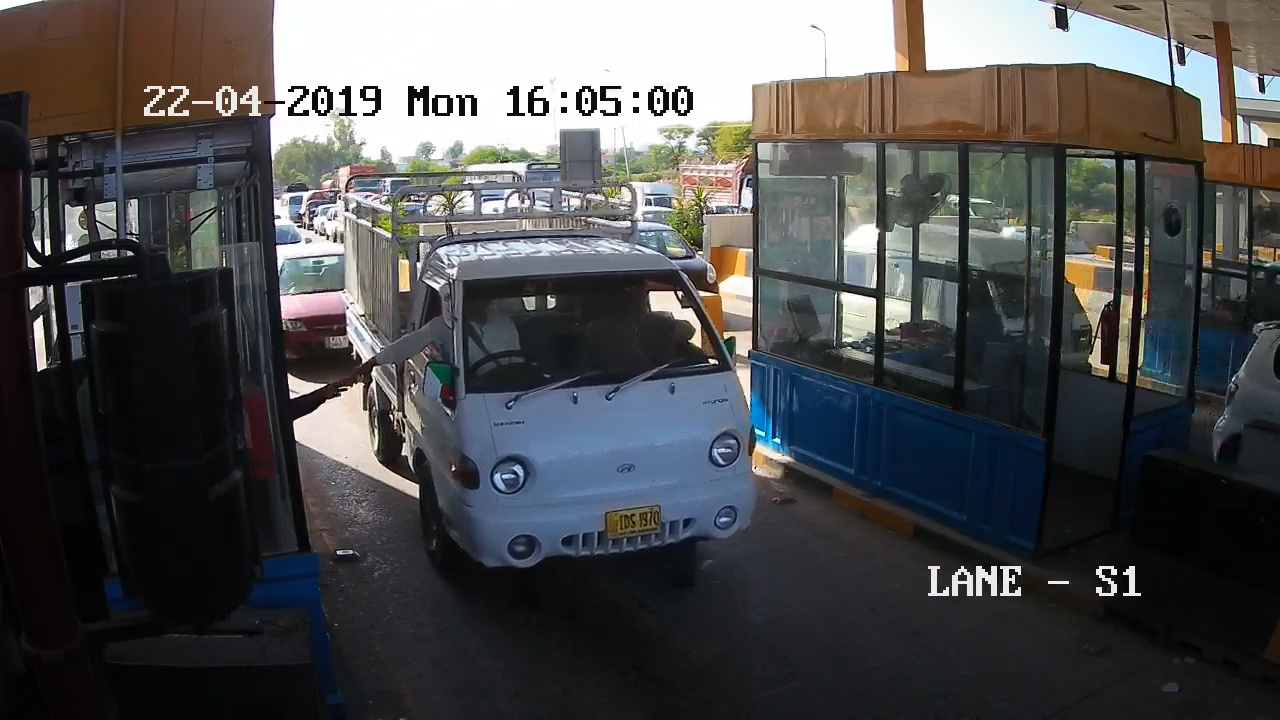Number Plate (Car): (606, 506, 664, 534), (323, 335, 351, 348)
